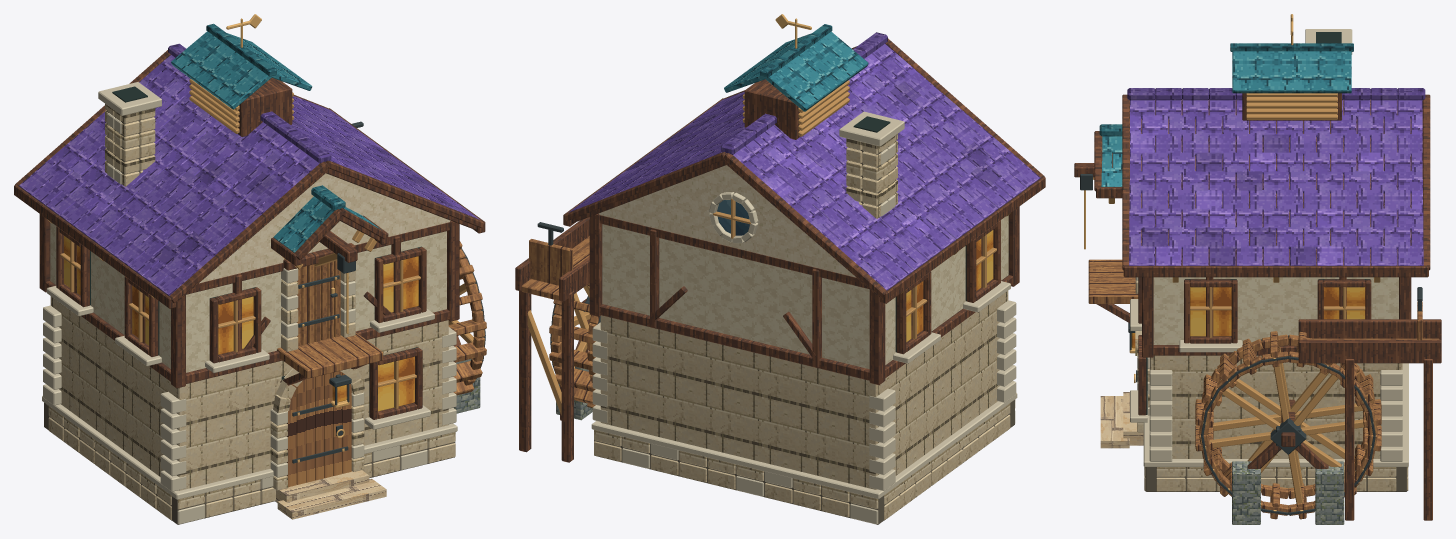
The picture shows the model from 3 angles, left to right: view 1: azimuth 30°, elevation 25°; view 2: azimuth 150°, elevation 25°; view 3: azimuth 270°, elevation 25°; orthographic projection. The views are drawn at different scales.
Parts seen in each view (by area): view 1: Roof__roof_violet, Walls__stone, Walls__cream, Masonry__stone, Roof__timber, Timber__timber, Windows__timber, Roof__roof_violet_hi, Timber__plaster_warm, Masonry__stone_edge, Timber__stone_edge, Windows__glow (+26 smaller); view 2: Walls__stone, Roof__roof_violet, Walls__cream, Timber__timber, Masonry__stone, Timber__plaster_warm, Roof__timber, Masonry__stone_edge, Launder__timber, Timber__stone_edge, Roof__roof_violet_hi, Monitor teal roof (+13 smaller); view 3: Roof__roof_violet, Walls__stone, Launder__timber, Roof__timber, Wheel__oak, Walls__cream, Roof__roof_violet_dark, Wheel__oak_edge, Roof__roof_violet_hi, Monitor teal roof.001, Timber__stone_edge, Wheel__grey (+22 smaller).
Part boxes in pixels (x1,y1,x2,y2): Roof__roof_violet: (19,55,479,295); Walls__stone: (50,296,448,490); Walls__cream: (50,222,446,372); Masonry__stone: (48,104,455,520); Roof__timber: (14,50,485,308); Timber__timber: (39,214,459,388); Windows__timber: (56,226,426,419); Roof__roof_violet_hi: (67,81,466,214); Timber__plaster_warm: (199,173,450,283); Masonry__stone_edge: (42,82,457,524); Timber__stone_edge: (43,305,456,491); Windows__glow: (64,236,418,411); Walls__stone: (600,291,1008,489); Roof__roof_violet: (568,43,1040,290); Walls__cream: (602,215,1008,368); Timber__timber: (589,206,1019,384); Masonry__stone: (594,134,1015,520); Timber__plaster_warm: (599,165,855,277); Roof__timber: (563,38,1045,303); Masonry__stone_edge: (591,111,1017,524); Launder__timber: (515,217,589,462); Timber__stone_edge: (592,300,1016,490); Roof__roof_violet_hi: (610,53,930,249); Monitor teal roof: (764,31,868,111); Roof__roof_violet: (1129,99,1423,265); Walls__stone: (1150,355,1402,458); Launder__timber: (1298,319,1441,520); Roof__timber: (1094,94,1430,277); Wheel__oak: (1195,331,1381,519); Walls__cream: (1153,277,1398,344); Roof__roof_violet_dark: (1127,88,1425,265); Wheel__oak_edge: (1209,347,1364,505); Roof__roof_violet_hi: (1130,115,1422,265); Monitor teal roof.001: (1232,51,1351,93); Timber__stone_edge: (1149,367,1402,461); Wheel__grey: (1232,461,1344,524).
Bounding box in the file's own units: 7.9 × 8.64 × 7.01.
21 materials, 15 textured.
